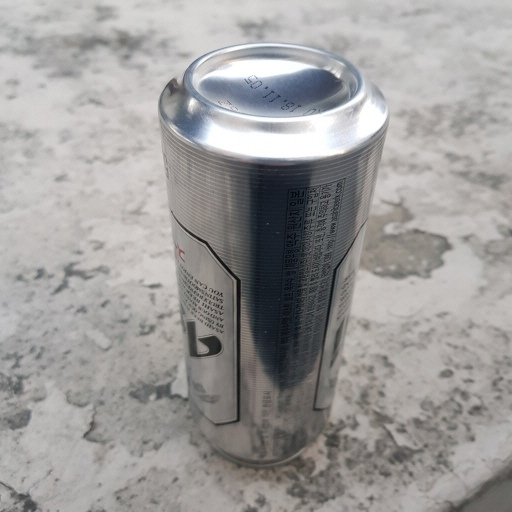Metal_0: (157, 44, 388, 470)
